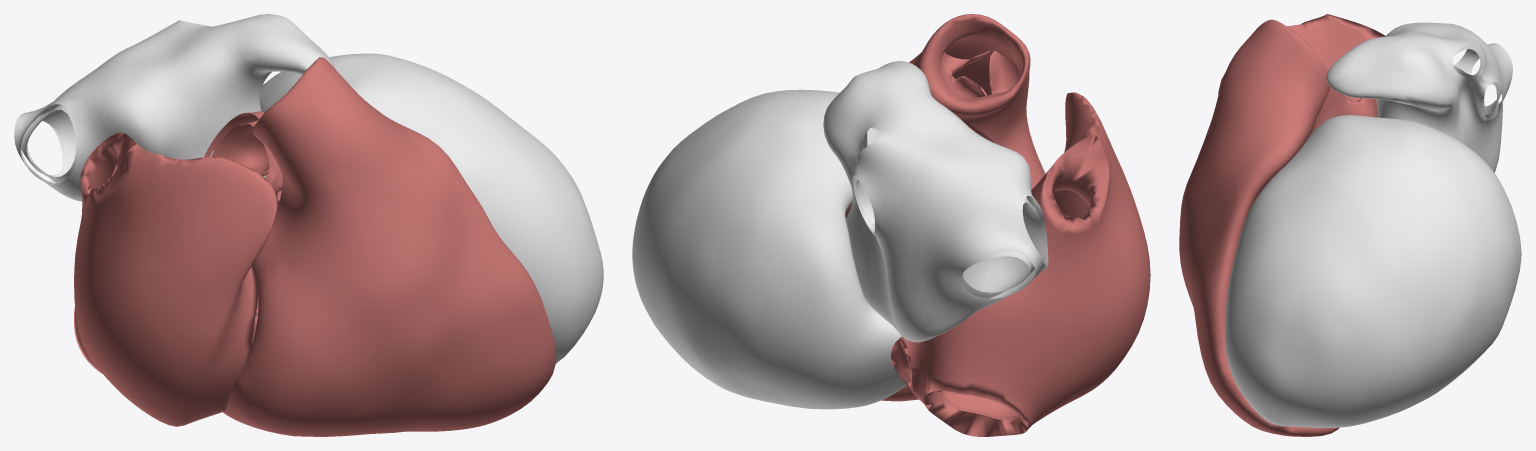
File: vh_f_heart-80.fbx
3 renders of one model, left to right at view 1: azimuth 30°, elevation 25°; view 2: azimuth 150°, elevation 25°; view 3: azimuth 270°, elevation 25°, orthographic. The views are drawn at different scales.
Parts seen in each view (by area): view 1: VH_F_right_ventricle, VH_F_right_cardiac_atrium, VH_F_left_ventricle, VH_F_left_cardiac_atrium, VH_F_aortic_valve; view 2: VH_F_left_ventricle, VH_F_left_cardiac_atrium, VH_F_right_cardiac_atrium, VH_F_right_ventricle, VH_F_pulmonary_valve; view 3: VH_F_left_ventricle, VH_F_right_ventricle, VH_F_left_cardiac_atrium, VH_F_right_cardiac_atrium, VH_F_aortic_valve.
Part boxes in pixels (x1=…): VH_F_right_ventricle: x1=222, y1=57, x2=556, y2=436; VH_F_right_cardiac_atrium: x1=74, y1=132, x2=278, y2=426; VH_F_left_ventricle: x1=259, y1=53, x2=603, y2=363; VH_F_left_cardiac_atrium: x1=14, y1=14, x2=335, y2=201; VH_F_aortic_valve: x1=204, y1=111, x2=282, y2=202; VH_F_left_ventricle: x1=632, y1=89, x2=906, y2=409; VH_F_left_cardiac_atrium: x1=823, y1=61, x2=1048, y2=342; VH_F_right_cardiac_atrium: x1=890, y1=92, x2=1150, y2=436; VH_F_right_ventricle: x1=881, y1=14, x2=1045, y2=401; VH_F_pulmonary_valve: x1=940, y1=50, x2=1022, y2=108; VH_F_left_ventricle: x1=1225, y1=115, x2=1521, y2=427; VH_F_right_ventricle: x1=1179, y1=19, x2=1339, y2=436; VH_F_left_cardiac_atrium: x1=1326, y1=22, x2=1512, y2=172; VH_F_right_cardiac_atrium: x1=1218, y1=14, x2=1385, y2=101; VH_F_aortic_valve: x1=1312, y1=87, x2=1377, y2=132.
Size of the model in its own units: 14.25 by 11 by 10.15.
